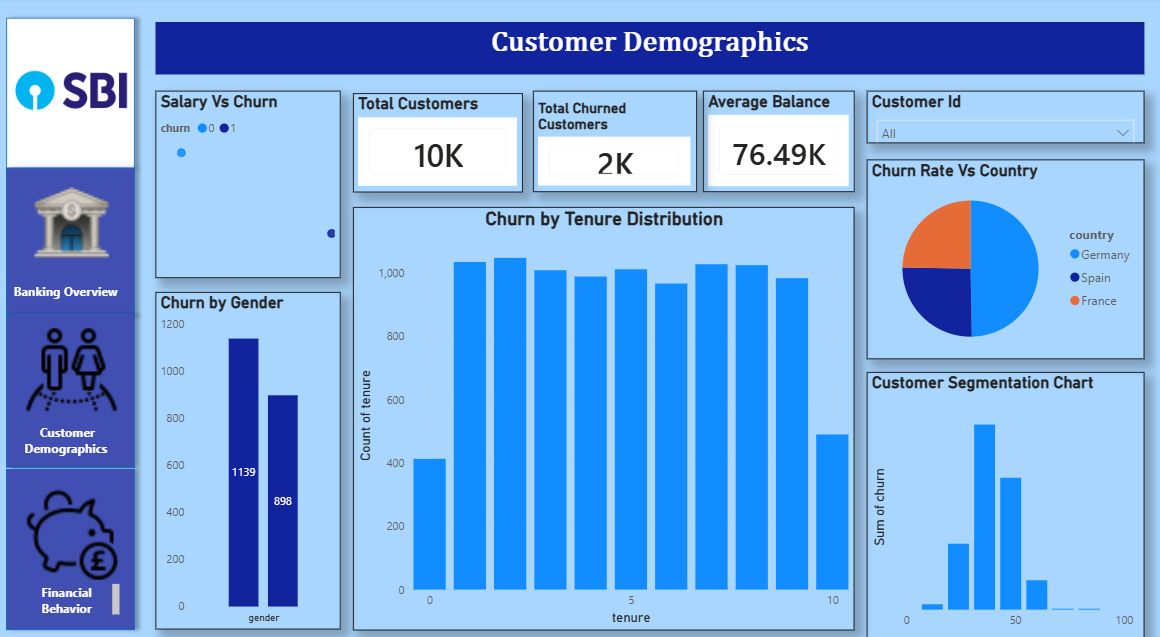

The page's visual inventory and layout, read from the dashboard file:
{"tool":"powerbi","page":{"name":"Customer Demographics","canvas":[1280,720],"ordinal":1},"visuals":[{"type":"shape","box":[0,13.7,159.2,183.9],"z":0},{"type":"shape","box":[0,178.4,159.2,181.1],"z":1000},{"type":"shape","box":[0,338.9,159.2,186.6],"z":2000},{"type":"shape","box":[0,509.1,159.2,194.9],"z":3000},{"type":"image","box":[12.3,27.4,135.8,150.9],"z":4000},{"type":"cardVisual","title":"Total Customers","fields":{"Data":["Count(cleaned_churn_data.customer_id)"]},"box":[389.7,105.7,186.6,108.4],"z":5000},{"type":"cardVisual","title":"Average Balance","fields":{"Data":["Avg(cleaned_churn_data.balance)"]},"box":[773.9,102.9,166,111.1],"z":6000},{"type":"slicer","title":"Customer Id","fields":{"Values":["cleaned_churn_data.customer_id"]},"box":[953.7,102.9,304.6,57.6],"z":7000},{"type":"cardVisual","title":"Total Churned Customers","fields":{"Data":["cleaned_churn_data.Churned Customers"]},"box":[587.3,102.9,179.8,111.1],"z":8000},{"type":"clusteredColumnChart","title":"Churn by Tenure Distribution","fields":{"Category":["cleaned_churn_data.tenure"],"Y":["CountNonNull(cleaned_churn_data.tenure)"]},"box":[389.7,230.5,550.3,465.2],"z":9000},{"type":"columnChart","title":"Churn by Gender","fields":{"Category":["cleaned_churn_data.gender"],"Y":["Sum(cleaned_churn_data.churn)"],"Series":["cleaned_churn_data.churn"]},"box":[172.9,323.8,203.1,370.5],"z":10000},{"type":"pieChart","title":"Churn Rate Vs Country","fields":{"Y":["cleaned_churn_data.churn rate"],"Category":["cleaned_churn_data.country"]},"box":[953.7,178.4,304.6,219.6],"z":11000},{"type":"clusteredColumnChart","title":"Customer Segmentation Chart","fields":{"Y":["Sum(cleaned_churn_data.churn)"],"Category":["cleaned_churn_data.age (bins)"]},"box":[953.7,411.7,304.6,292.3],"z":12000},{"type":"image","box":[22.2,196.7,117.8,103.3],"z":13000},{"type":"image","box":[22.2,360,117.8,103.3],"z":14000},{"type":"image","box":[21.1,536.7,117.8,103.3],"z":15000},{"type":"textbox","box":[12.2,308.9,127.8,30],"z":16000},{"type":"textbox","box":[12.2,463.3,127.8,45.6],"z":17000},{"type":"textbox","box":[21.1,640,117.8,44.4],"z":18000},{"type":"scatterChart","title":"Salary Vs Churn","fields":{"X":["Avg(cleaned_churn_data.estimated_salary)"],"Y":["Sum(cleaned_churn_data.balance)"],"Series":["cleaned_churn_data.churn"]},"box":[172.9,102.9,203.1,205.8],"z":19000},{"type":"textbox","box":[172.9,27.4,1085.4,57.6],"z":20000}]}

Visuals, with their boxes in screenshot pixels (x1, y1, x2, y2), scaled from the page's 1280x720 canvas onto the 1160x637 screenshot:
shape: [0,12,144,175]
shape: [0,158,144,318]
shape: [0,300,144,465]
shape: [0,450,144,623]
image: [11,24,134,158]
"Total Customers" cardVisual: [353,94,522,189]
"Average Balance" cardVisual: [701,91,852,189]
"Customer Id" slicer: [864,91,1140,142]
"Total Churned Customers" cardVisual: [532,91,695,189]
"Churn by Tenure Distribution" clusteredColumnChart: [353,204,852,616]
"Churn by Gender" columnChart: [157,286,341,614]
"Churn Rate Vs Country" pieChart: [864,158,1140,352]
"Customer Segmentation Chart" clusteredColumnChart: [864,364,1140,623]
image: [20,174,127,265]
image: [20,318,127,410]
image: [19,475,126,566]
textbox: [11,273,127,300]
textbox: [11,410,127,450]
textbox: [19,566,126,606]
"Salary Vs Churn" scatterChart: [157,91,341,273]
textbox: [157,24,1140,75]
